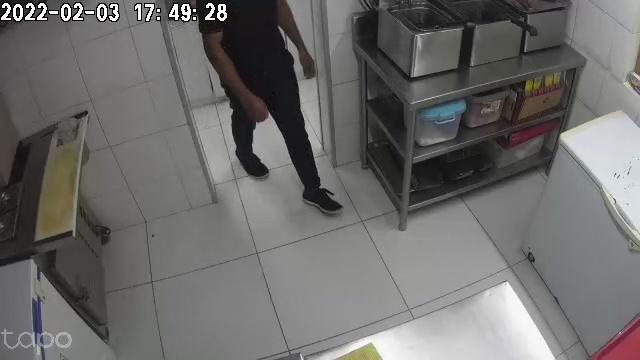no_gloves: (236, 84, 268, 122), (296, 38, 316, 81)
